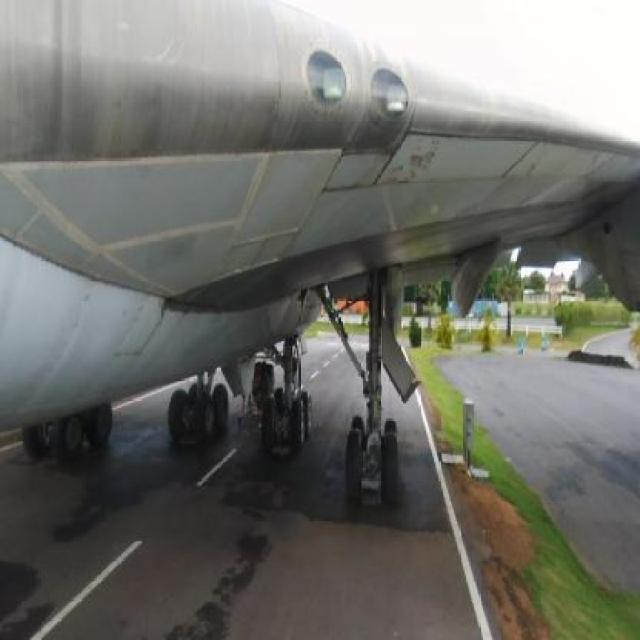Scartch: (389, 123, 454, 194)
